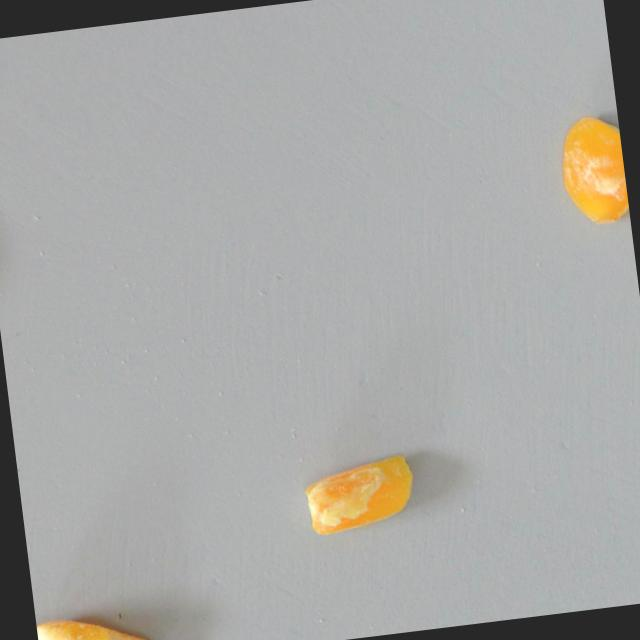pelicula: (306, 433, 410, 557), (550, 118, 630, 228), (37, 588, 133, 640)
